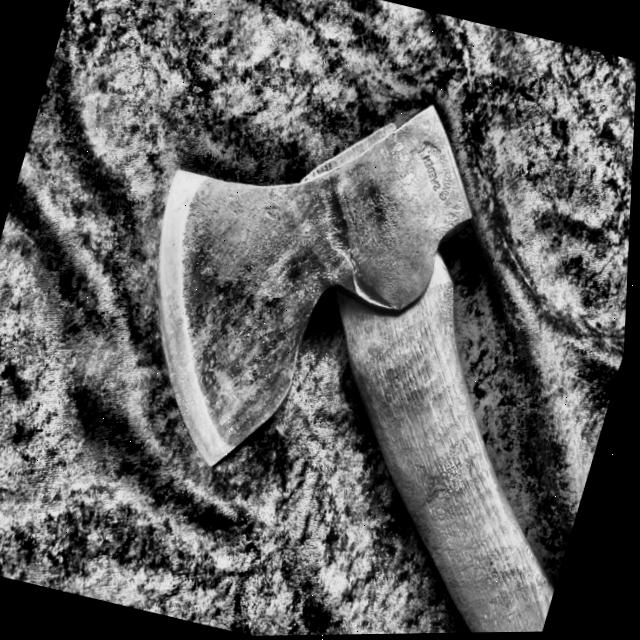kapak: (148, 94, 557, 633)
